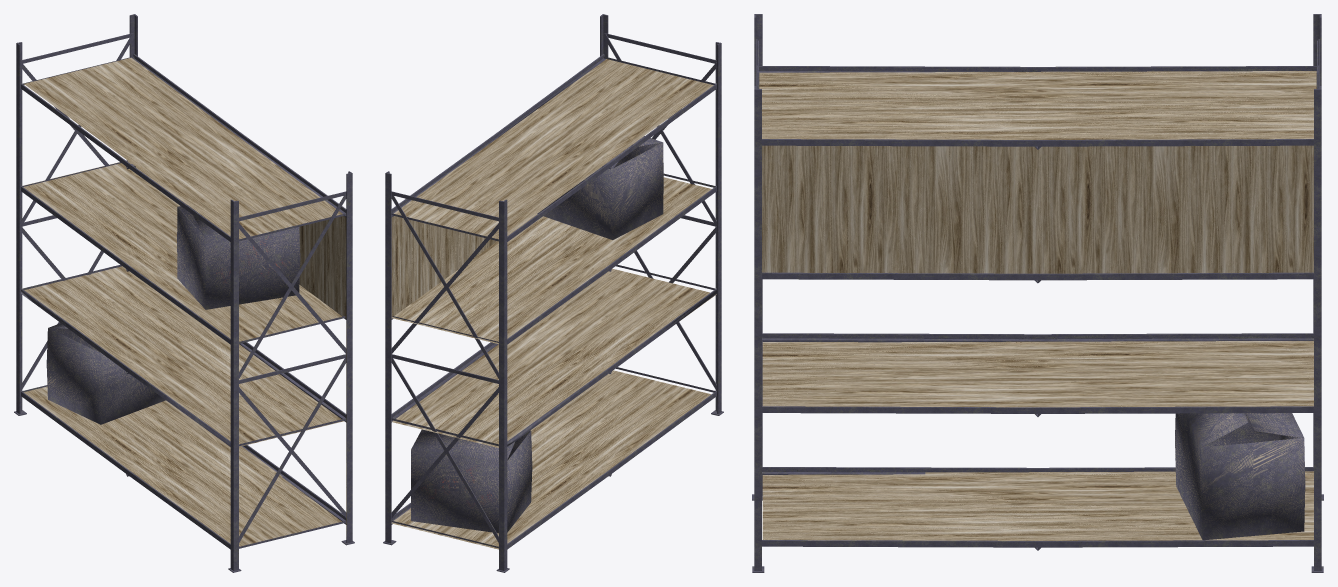
The model's file is rack.fbx.
3 renders of one model, left to right at view 1: azimuth 30°, elevation 25°; view 2: azimuth 150°, elevation 25°; view 3: azimuth 270°, elevation 25°, orthographic. The views are drawn at different scales.
Parts seen in each view (by area): view 1: Group1; view 2: Group1; view 3: Group1.
Boxes of the visible parts, bbox=[...] form: Group1: bbox=[14, 14, 354, 572]; Group1: bbox=[383, 14, 723, 572]; Group1: bbox=[752, 14, 1323, 572].
Bounding box in the file's own units: 1685 × 4889 × 5254.
